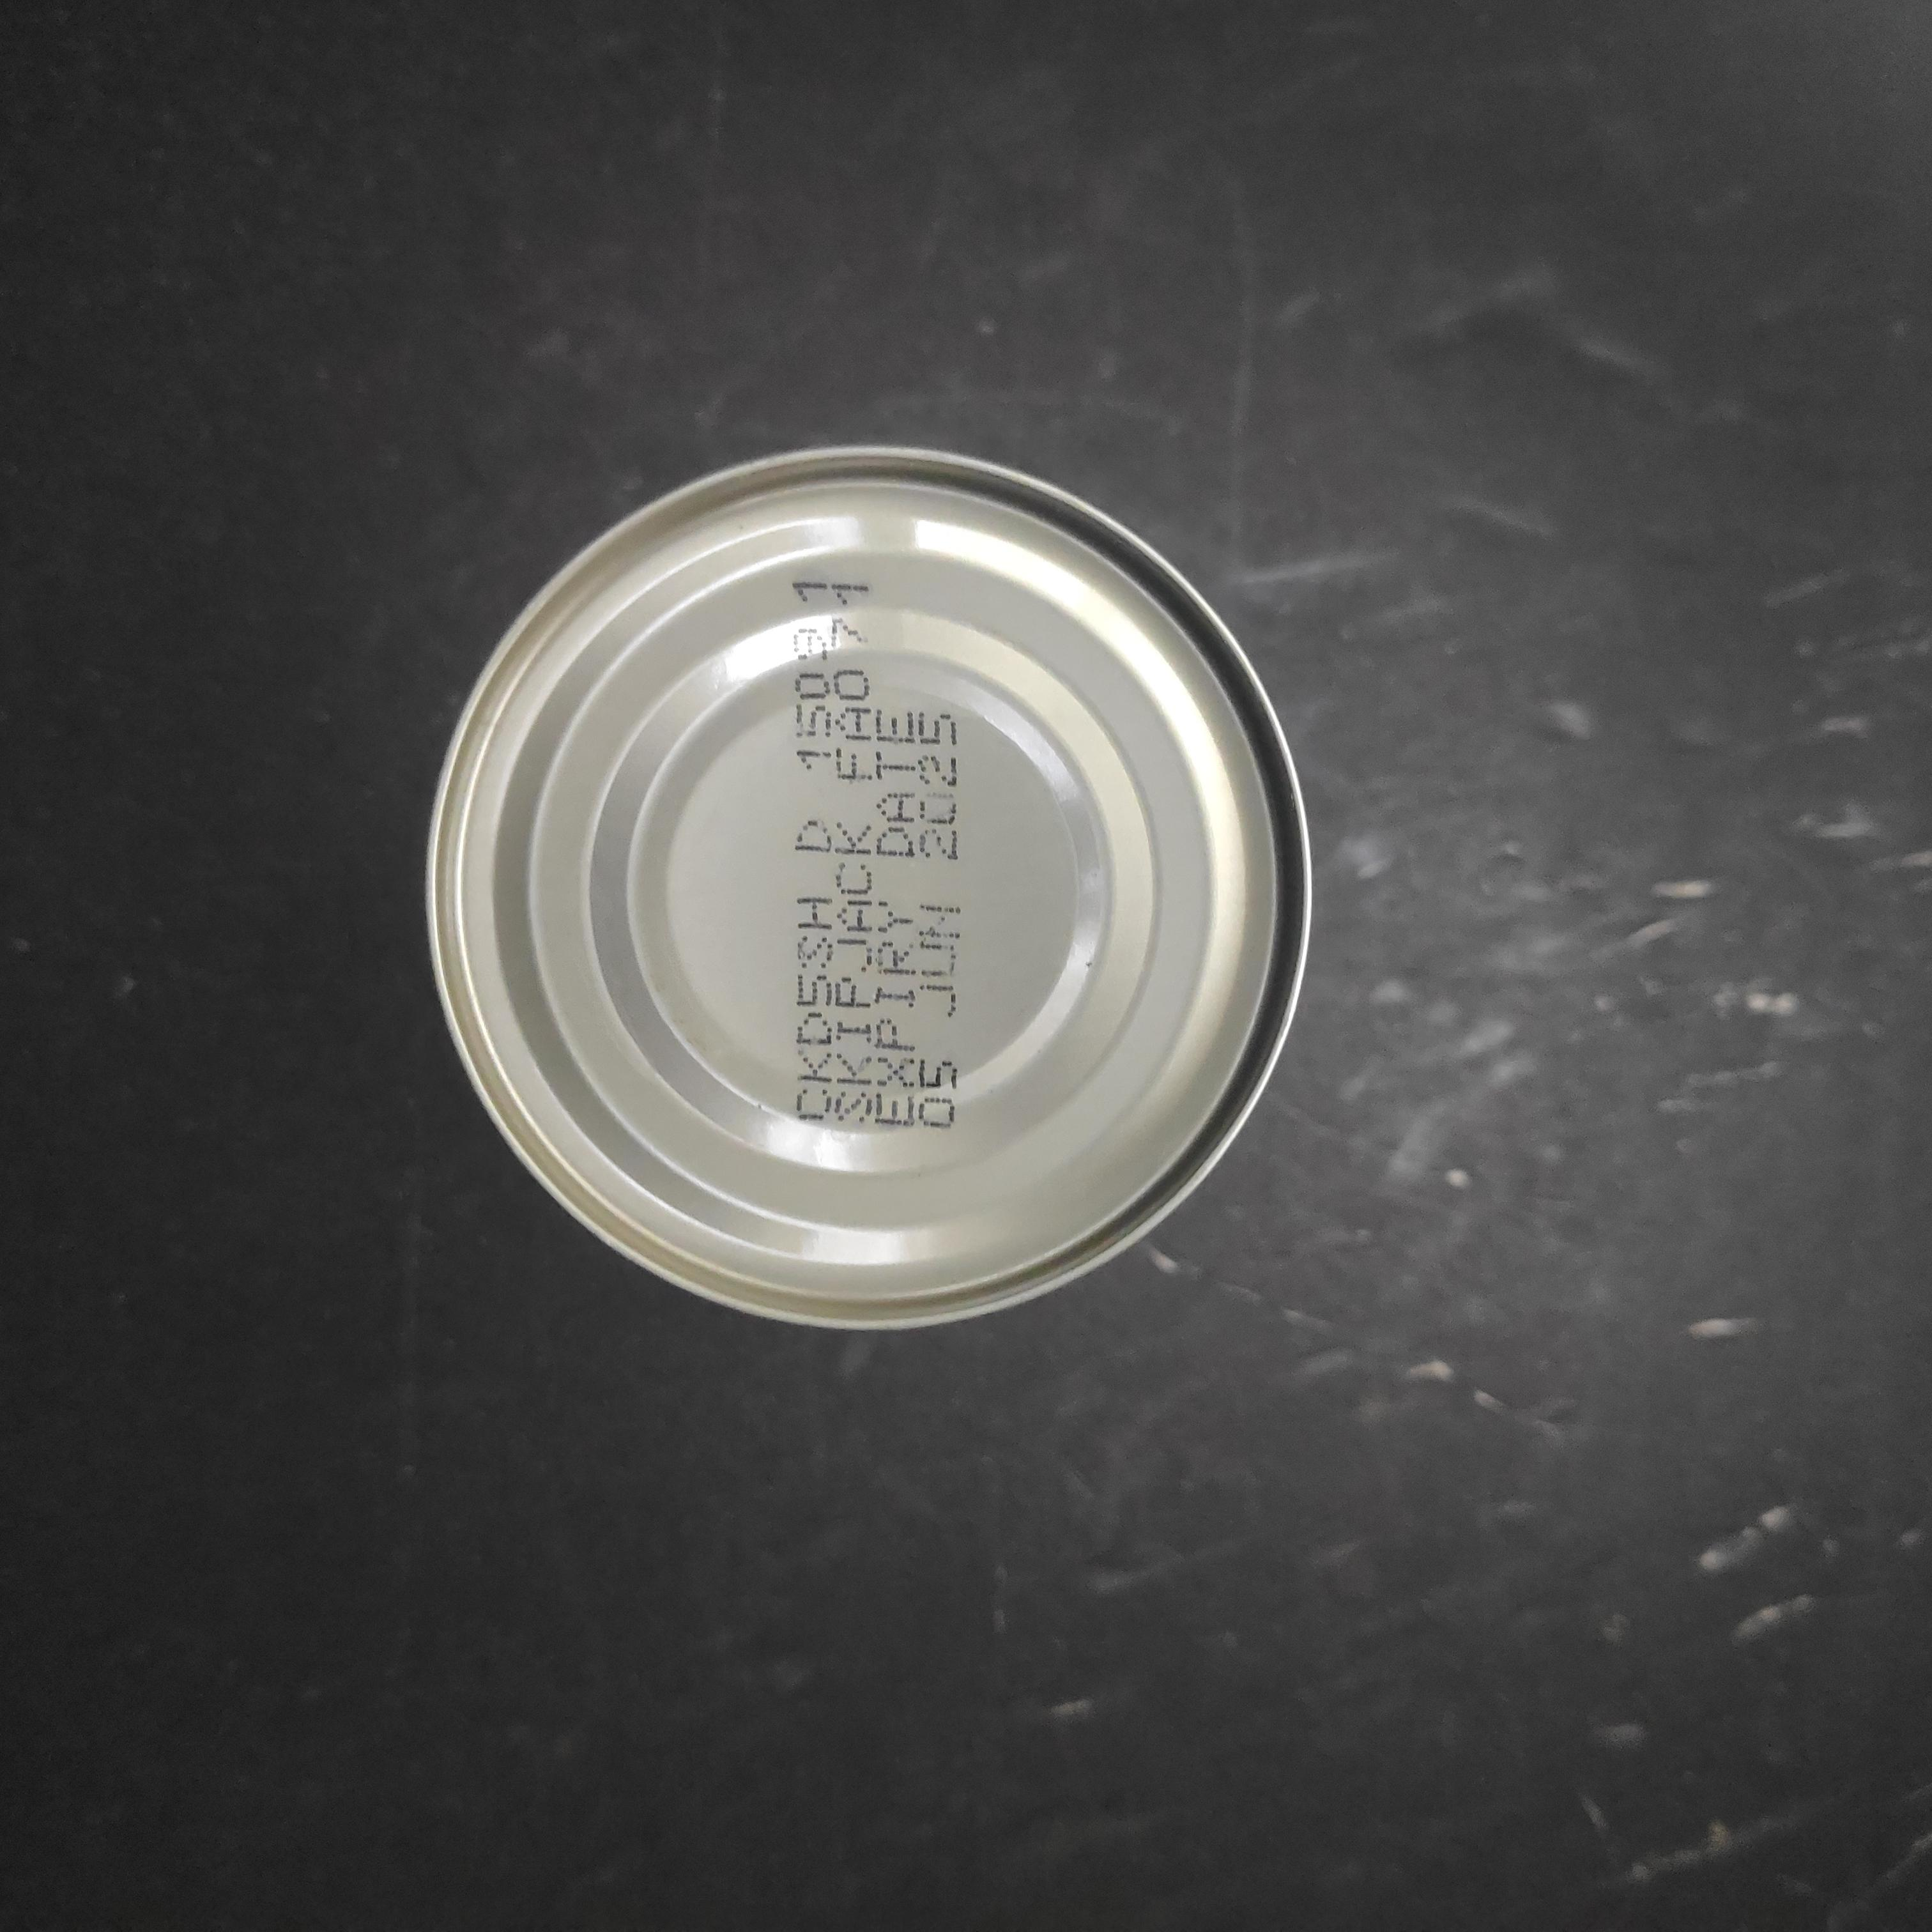No defect: (610, 600, 1511, 1493)
